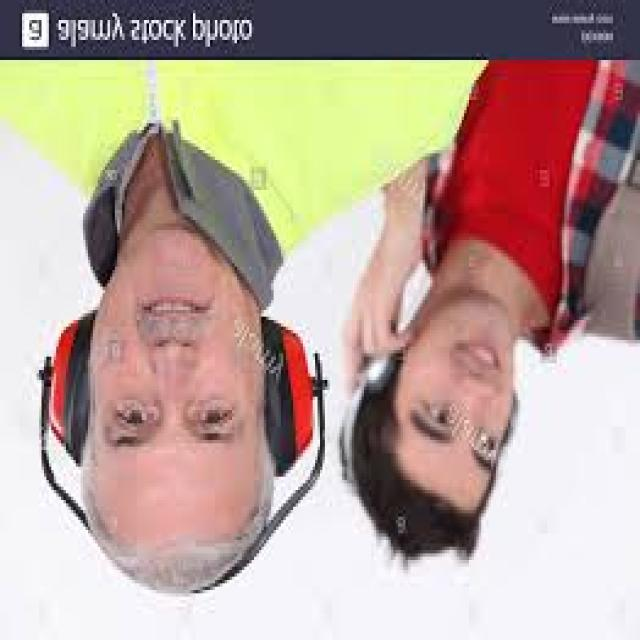Ear-Protection: (254, 320, 313, 490), (42, 313, 98, 477)
